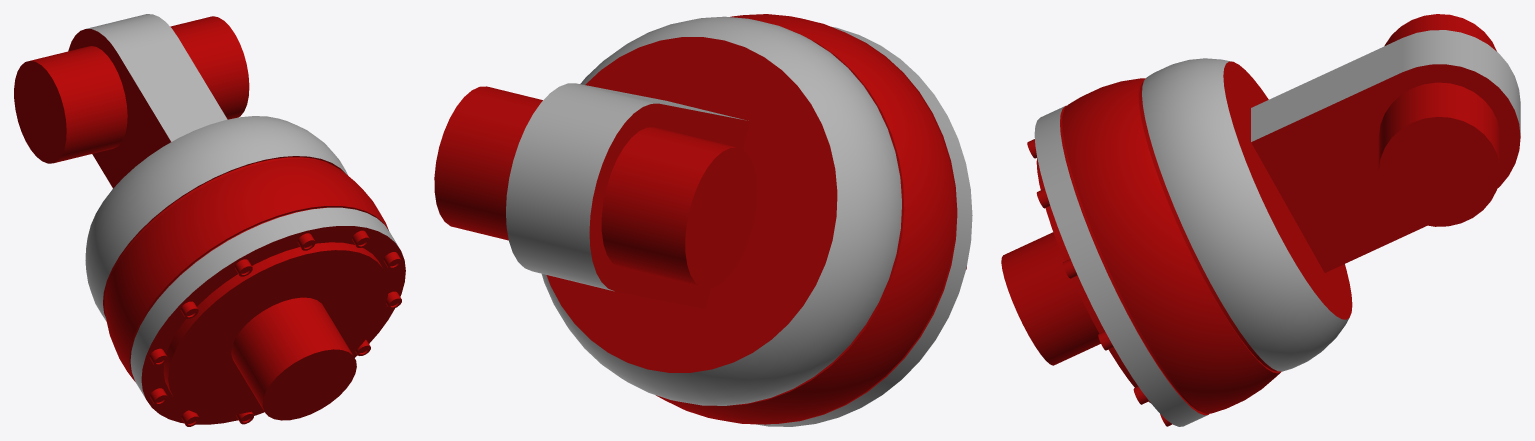
The model's file is Wrist_Joint.glb.
3 views of the same model, side by side, from view 1: azimuth 30°, elevation 25°; view 2: azimuth 150°, elevation 25°; view 3: azimuth 270°, elevation 25° (orthographic). The views are drawn at different scales.
Visible parts, largest first — view 1: Solid1.005; view 2: Solid1.005; view 3: Solid1.005.
Part boxes in pixels (x1,y1,x2,y2): Solid1.005: (14, 14, 405, 426); Solid1.005: (434, 14, 972, 426); Solid1.005: (1001, 14, 1520, 426).
Bounding box in the file's own units: 0.0849 × 0.0987 × 0.1281.
